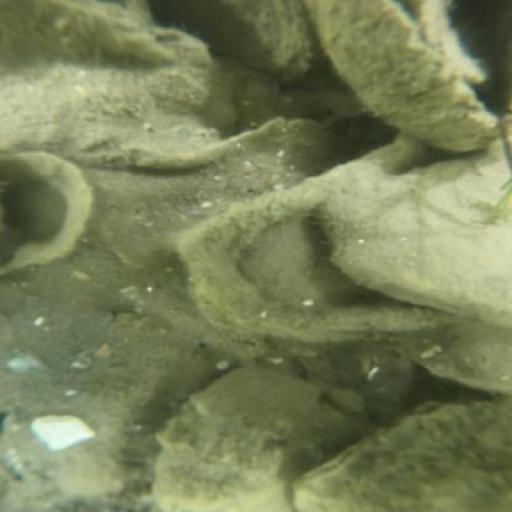Oyster-Closed: (315, 136, 512, 329), (313, 2, 497, 153), (156, 367, 340, 512), (2, 392, 134, 511), (156, 1, 314, 83), (4, 2, 177, 64), (408, 324, 512, 394)
Oyster-Open: (297, 405, 512, 512)
